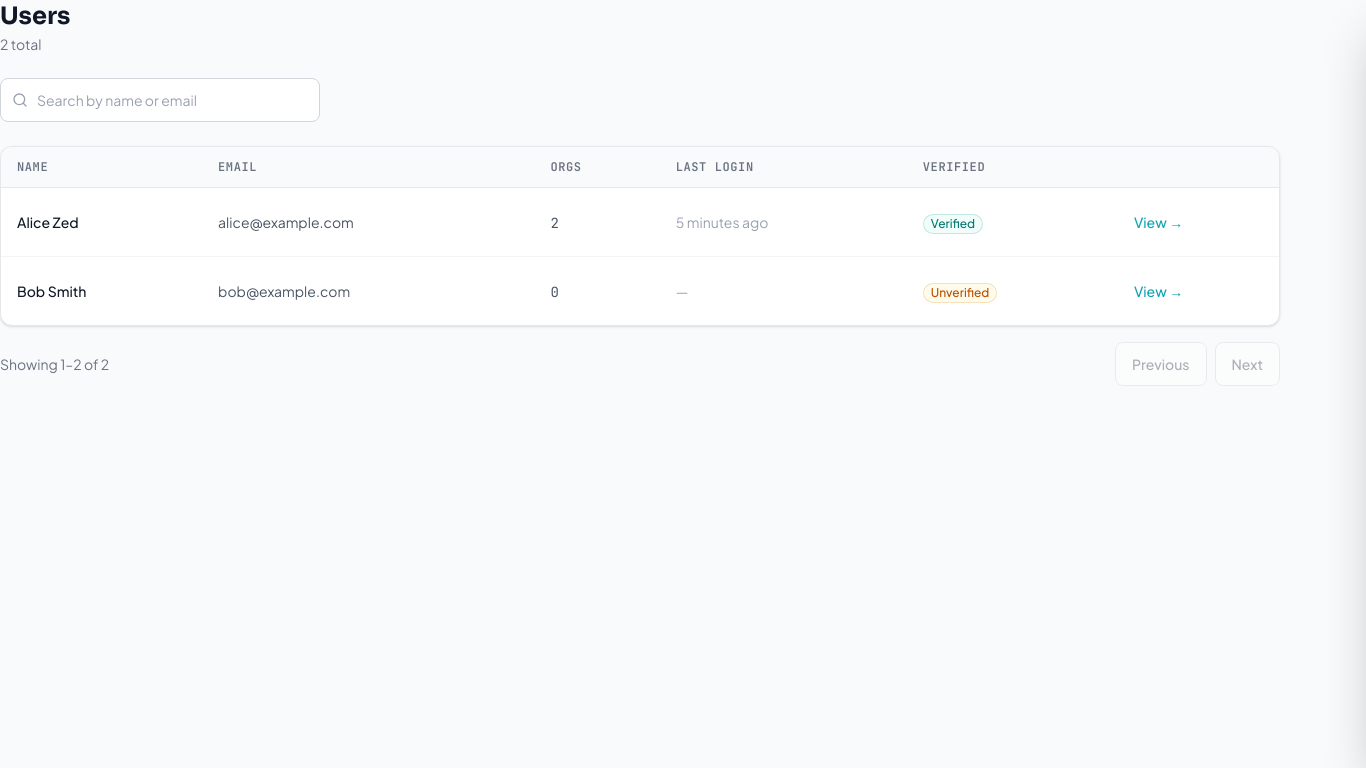
Test: Users list › clicking View opens slide-over with user details
Expected: the text "Alice Zed" is shown, [17,213,79,231]
Click the button "View →" in the row of "Zed": (1159, 222) [1134,200,1183,244]
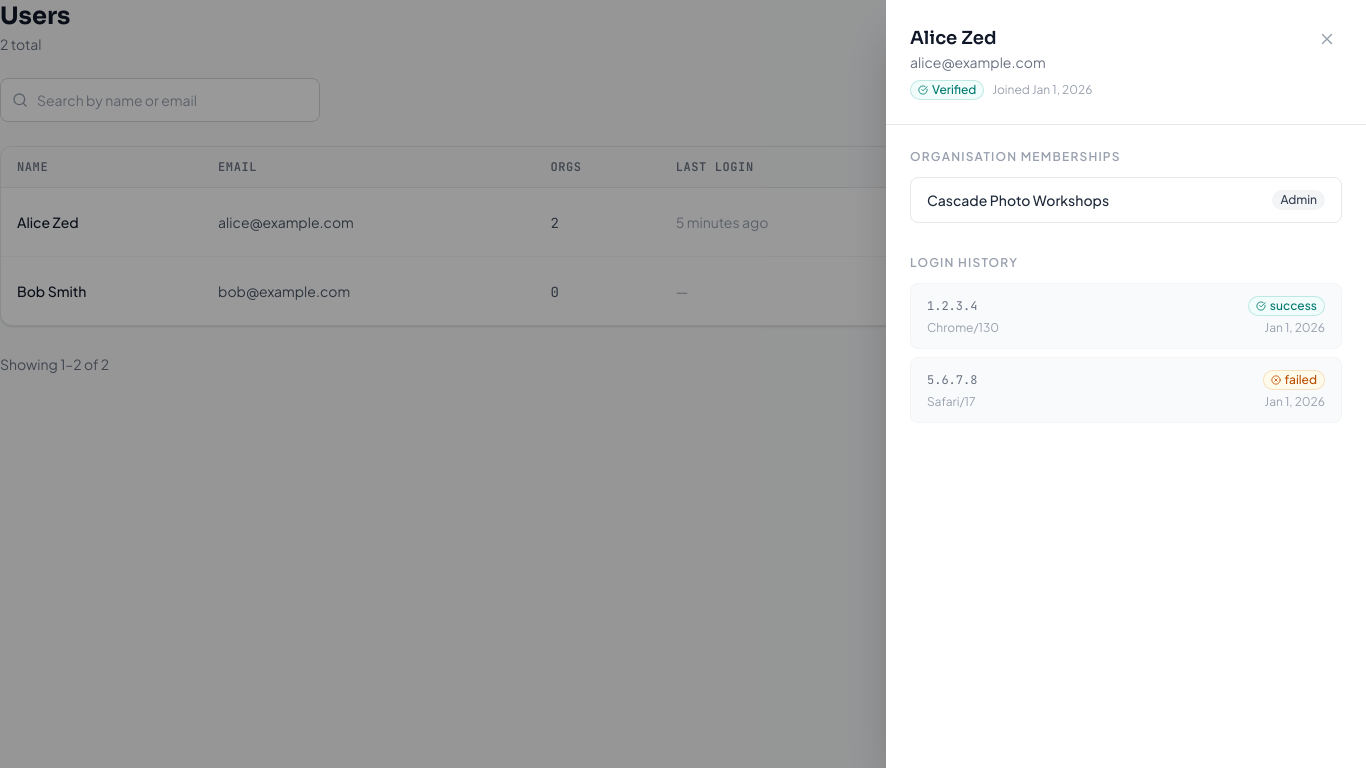
Expected: the dialog with test id "user-slideover" is shown, [886,0,1365,767]
Now the text "Cascade Photo Workshops" is shown, box [927,190,1109,210]
